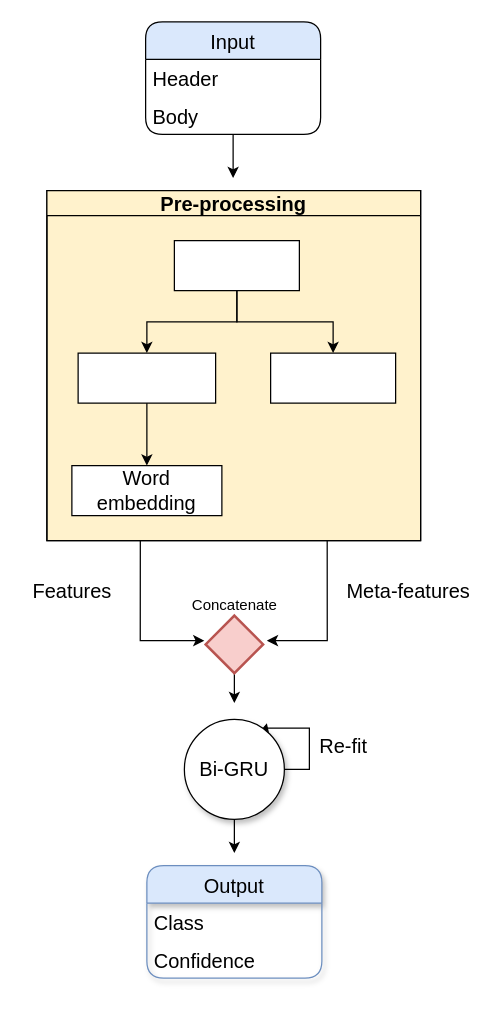
The diagram is 498 pixels wide and 1009 high, and some of its shapes have lost their labels. The centre of each missing label's shape, as x and y in pixels:
Feature extraction: the point at 332,377
Lemmatization: the point at 146,377
Text Cleaning: the point at 236,265
